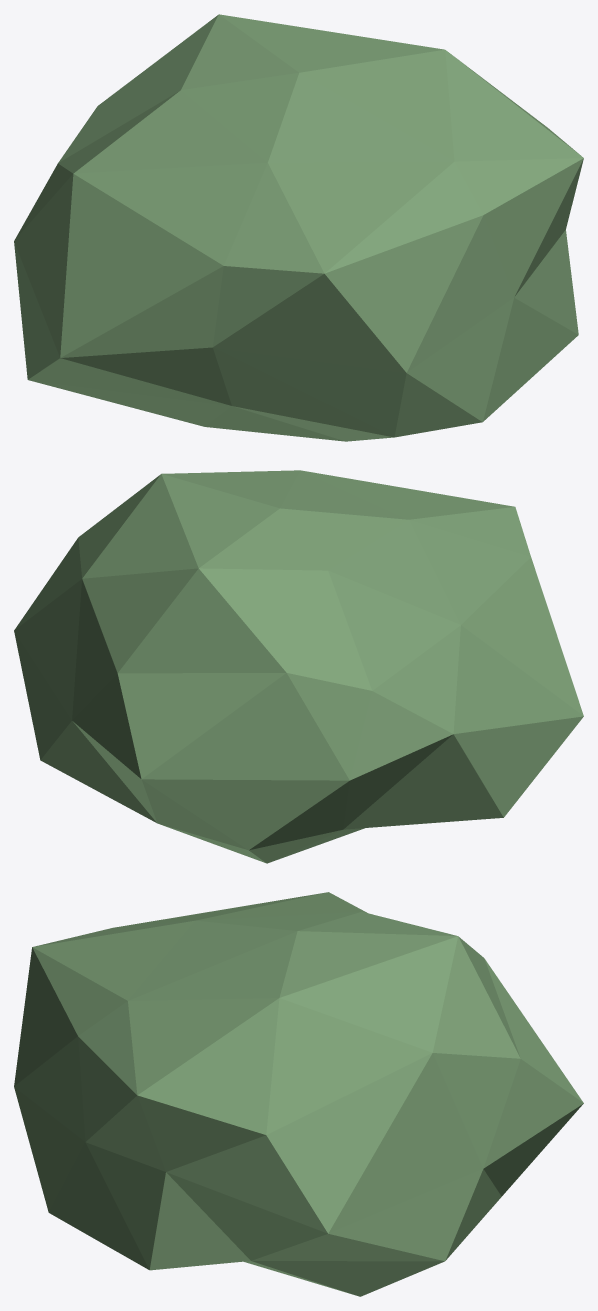
The model's file is bush_flowering_01.glb.
3 views of the same model, one above another, from view 1: azimuth 30°, elevation 25°; view 2: azimuth 150°, elevation 25°; view 3: azimuth 270°, elevation 25° (orthographic). The views are drawn at different scales.
Parts seen in each view (by area): view 1: bush_flowering_01; view 2: bush_flowering_01; view 3: bush_flowering_01.
Boxes of the visible parts, bbox=[...] form: bush_flowering_01: bbox=[14, 14, 583, 441]; bush_flowering_01: bbox=[14, 470, 583, 863]; bush_flowering_01: bbox=[14, 892, 583, 1296].
Size of the model in its own units: 0.9991 by 0.5755 by 0.9341.
